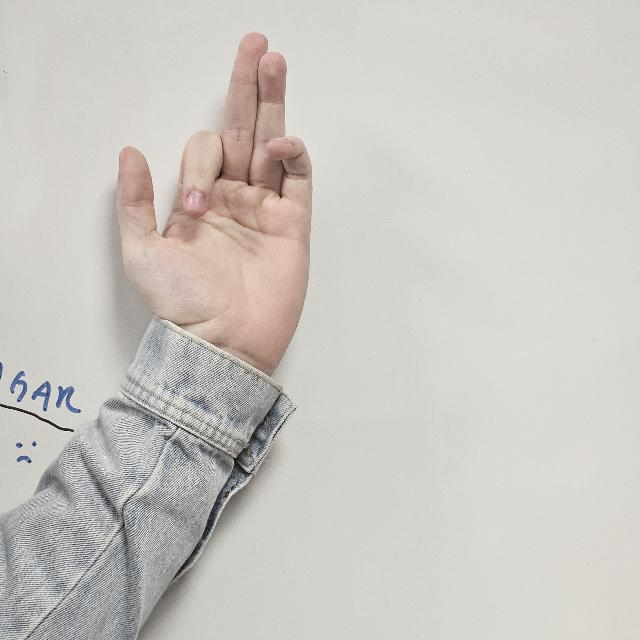R: (117, 33, 313, 374)
